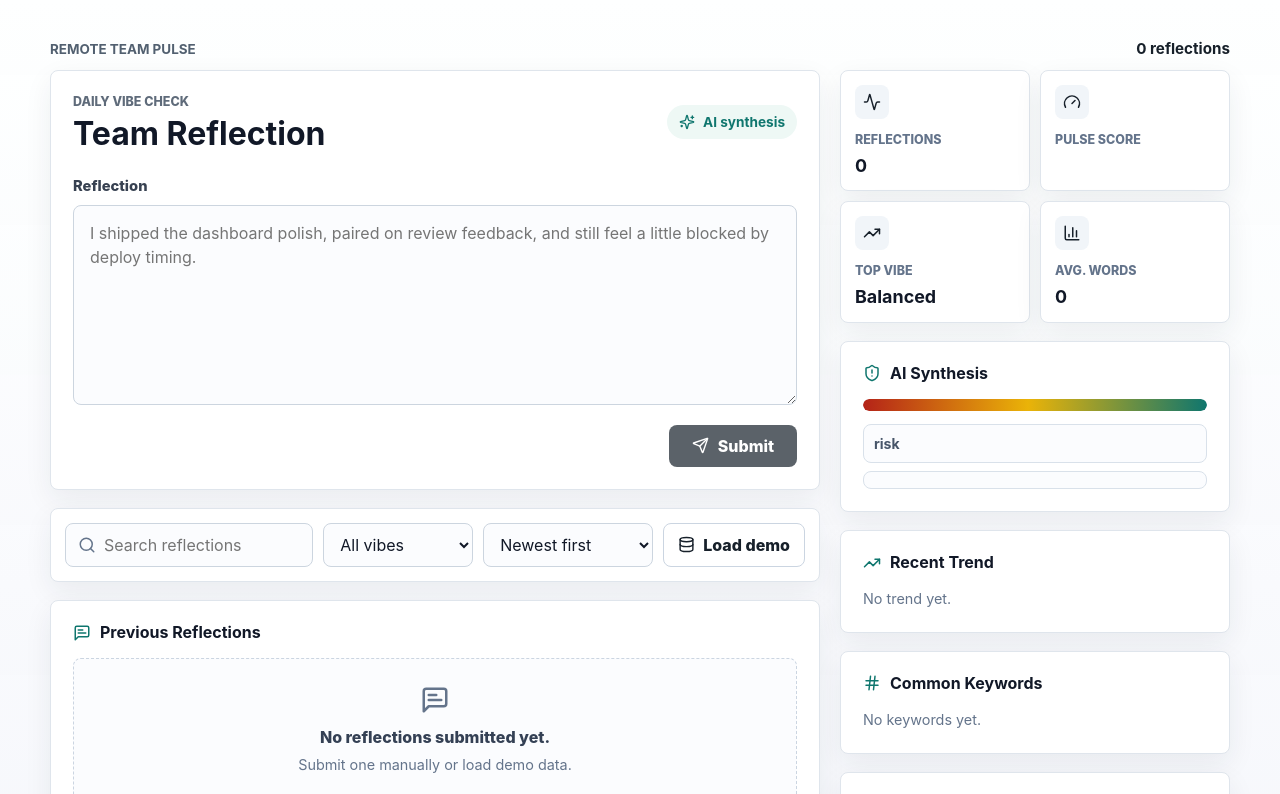
it: App submission flow › submits a reflection and updates entries and insights without a reload
Expected: the text "No reflections submitted yet." is shown, [320,725,550,749]
In the text box labelled "Reflection": [435, 305] box [73,205,797,405], type "I shipped a creative prototype with the team."
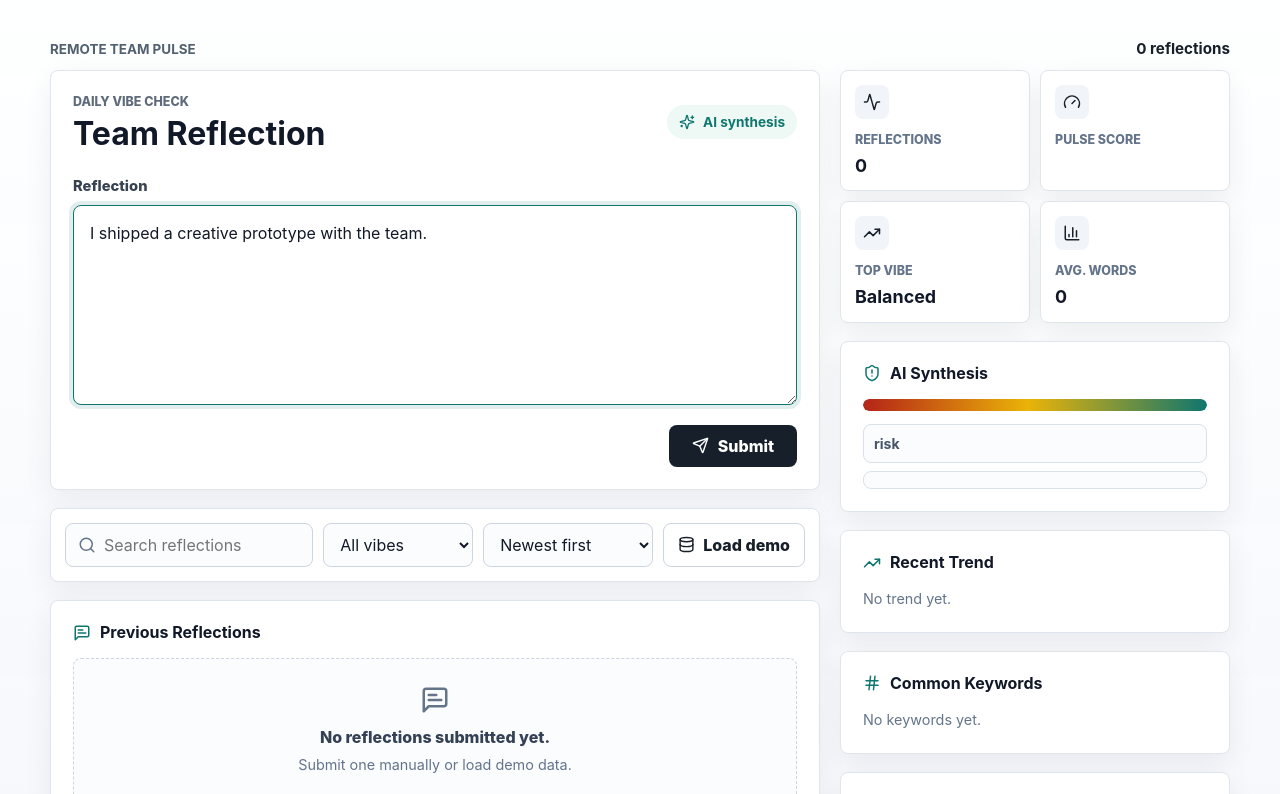
Click the button "Submit": [733, 446] box [669,425,797,467]
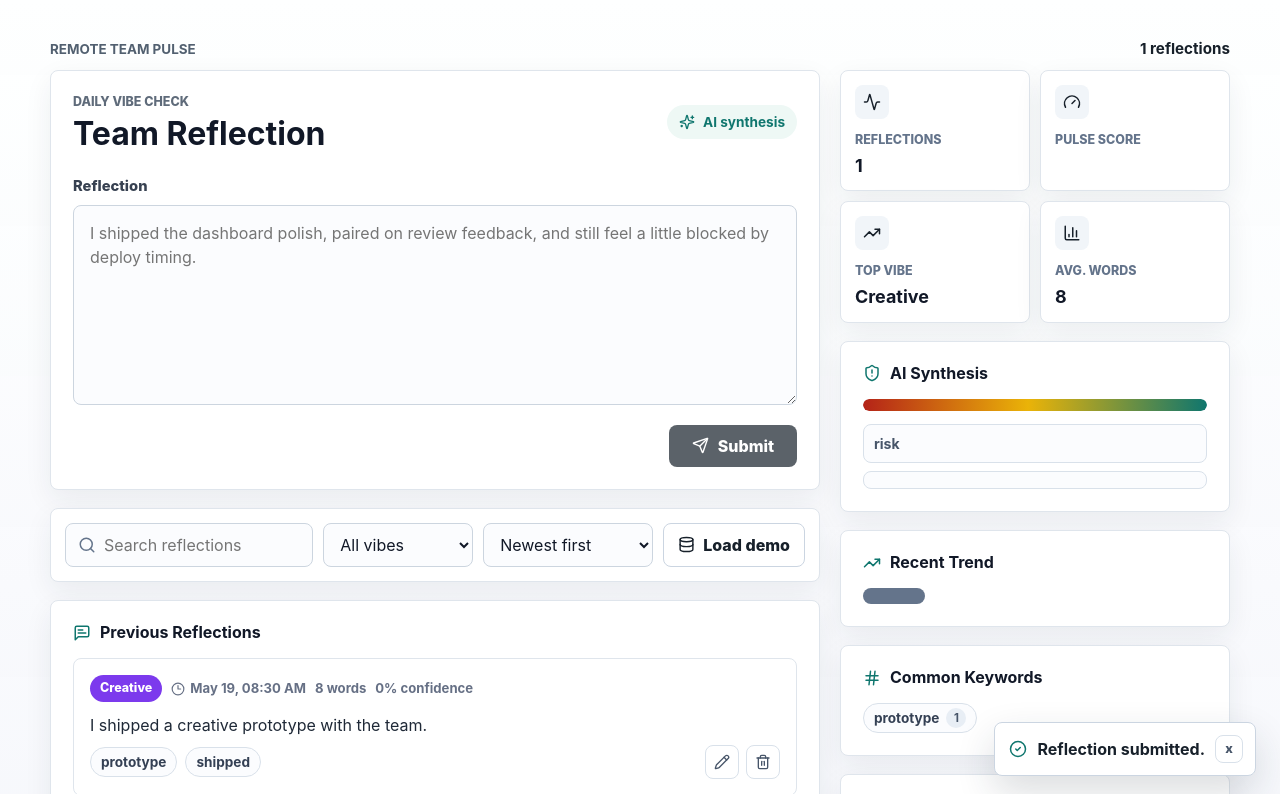
Expected: the text "I shipped a creative prototype with the team." is shown, [90,715,427,735]
Expected: the text "prototype" is shown, [90,747,177,777]
Expected: the text "1 reflections" is shown, [1140,38,1230,60]
